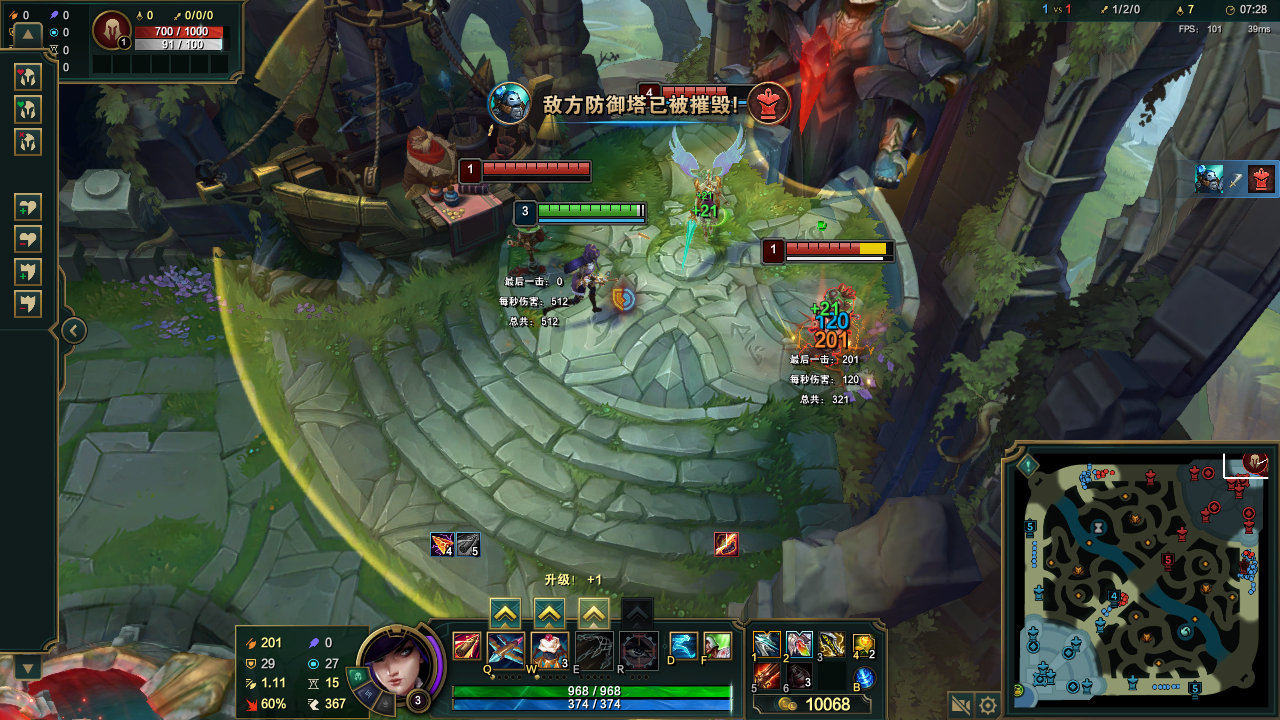DFYX: (785, 240, 893, 256), (481, 162, 590, 175), (667, 86, 741, 98)
